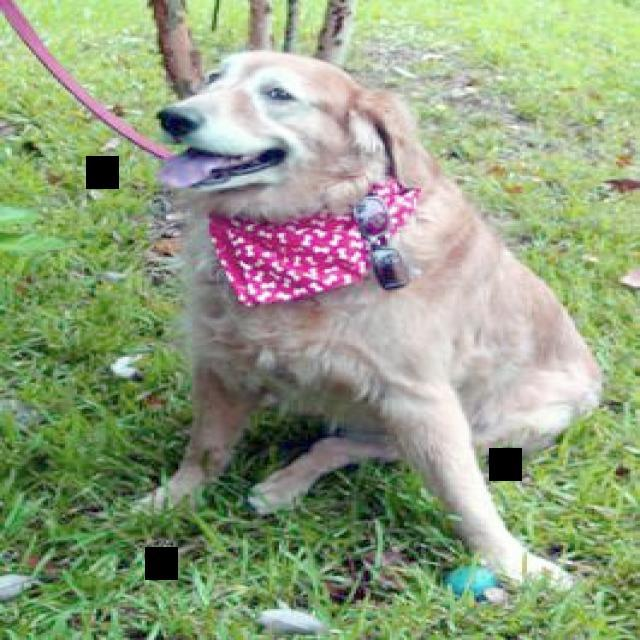adult_dog: (139, 45, 606, 596)
